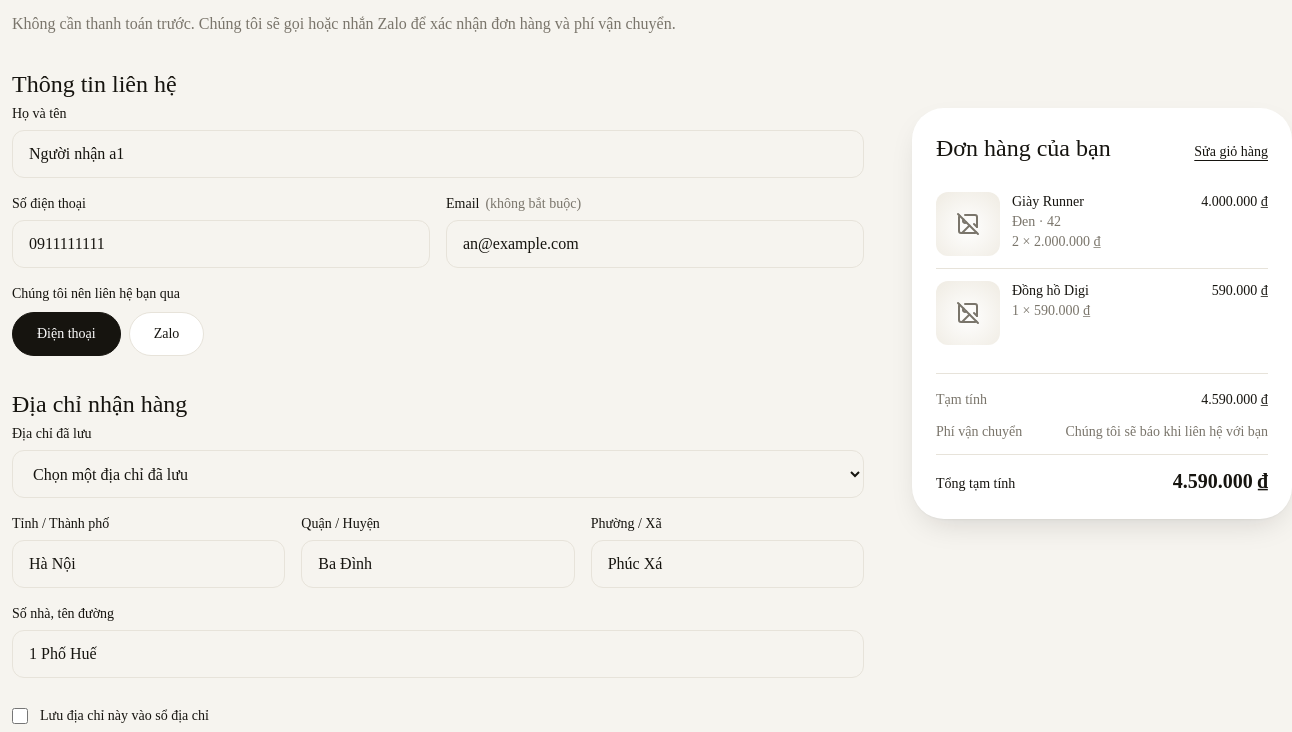
Scenario: a signed-in shopper › fills the fields from another saved address when it is chosen, without changing the email
The image size is (1292, 732).
Expected: the text "Giày Runner" is shown, [1012,194,1084,209]
Select "Người nhận a2 · 2 Cầu Giấy · Ba Đình" in the dropdown labelled "Địa chỉ đã lưu": x=438, y=474 [12,450,864,498]
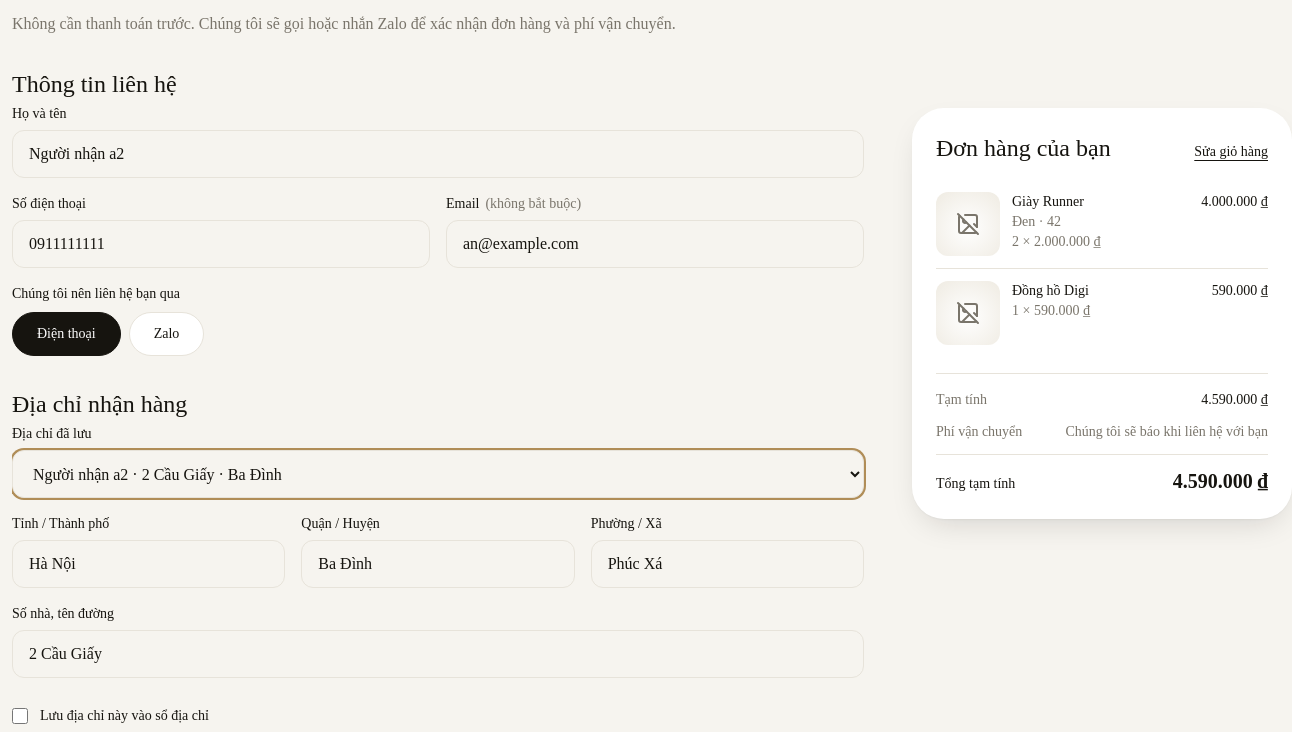
Expected: the field labelled "Email(không bắt buộc)" holds "an@example.com", [446,220,864,268]
Expected: the field labelled "Họ và tên" holds "Người nhận a2", [12,130,864,178]
Expected: the field labelled "Số nhà, tên đường" holds "2 Cầu Giấy", [12,630,864,678]
